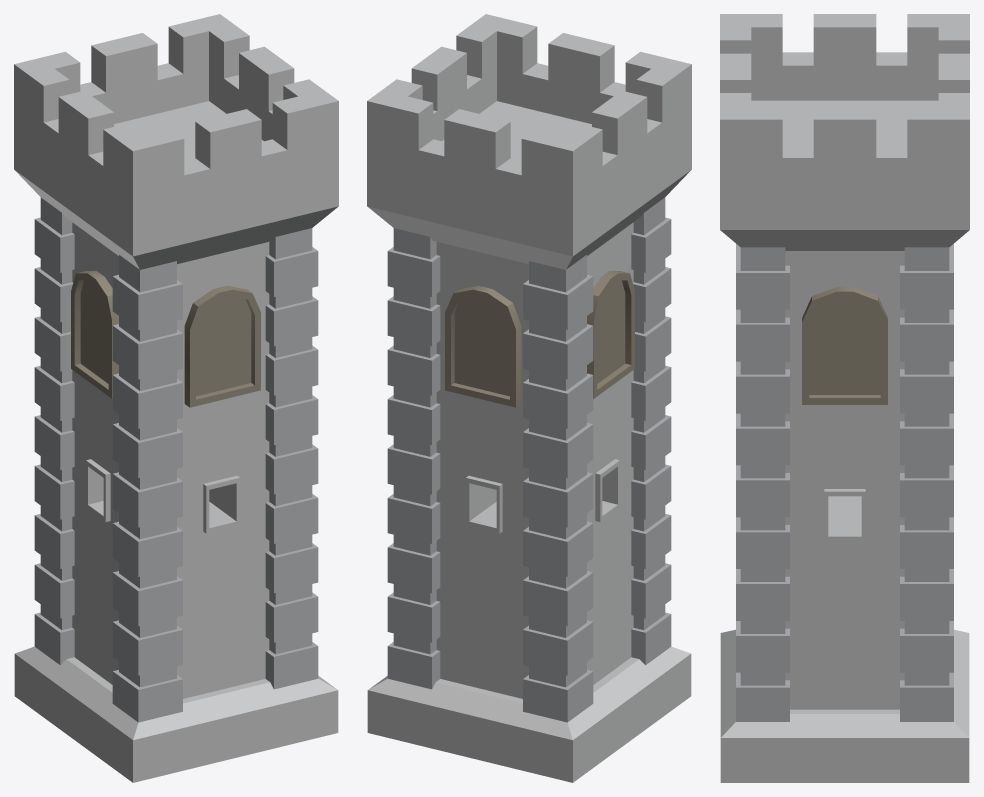
Rendered from Tower.fbx.
3 renders of one model, left to right at view 1: azimuth 30°, elevation 25°; view 2: azimuth 150°, elevation 25°; view 3: azimuth 270°, elevation 25°, orthographic. The views are drawn at different scales.
Visible parts, largest first — view 1: pCube9, pCube10, pCube2, pCube15, pCube13, pCube19, pCube12, pCube14, pCube16, pCube18, pCube17, pCube11 (+1 smaller); view 2: pCube9, pCube10, pCube2, pCube15, pCube13, pCube19, pCube12, pCube14, pCube16, pCube18, pCube17, pCube11 (+1 smaller); view 3: pCube9, pCube10, pCube3, pCube15, pCube16, pCube17, pCube19, pCube18, pCube12, pCube13, pCube14, pCube11.
Part boxes in pixels (x1,y1,x2,y2): pCube9: [14, 14, 338, 782]; pCube10: [40, 197, 312, 687]; pCube2: [184, 285, 260, 407]; pCube15: [34, 415, 318, 527]; pCube13: [34, 514, 318, 626]; pCube19: [34, 217, 318, 329]; pCube12: [34, 563, 318, 675]; pCube14: [34, 464, 318, 576]; pCube16: [34, 365, 318, 478]; pCube18: [34, 267, 318, 379]; pCube17: [34, 316, 318, 428]; pCube11: [34, 612, 318, 722]; pCube9: [367, 14, 691, 782]; pCube10: [393, 197, 665, 687]; pCube2: [445, 285, 521, 407]; pCube15: [387, 415, 671, 527]; pCube13: [387, 514, 671, 626]; pCube19: [387, 217, 671, 329]; pCube12: [387, 563, 671, 675]; pCube14: [387, 464, 671, 576]; pCube16: [387, 365, 671, 478]; pCube18: [387, 267, 671, 379]; pCube17: [387, 316, 671, 428]; pCube11: [387, 612, 671, 722]; pCube9: [720, 14, 969, 782]; pCube10: [740, 247, 949, 685]; pCube3: [802, 287, 887, 404]; pCube15: [736, 465, 953, 517]; pCube16: [736, 413, 953, 465]; pCube17: [736, 361, 953, 413]; pCube19: [736, 250, 953, 309]; pCube18: [736, 244, 953, 361]; pCube12: [736, 621, 953, 672]; pCube13: [736, 569, 953, 620]; pCube14: [736, 517, 953, 568]; pCube11: [736, 672, 953, 721].
Size of the model in its own units: 100 by 294 by 100.
